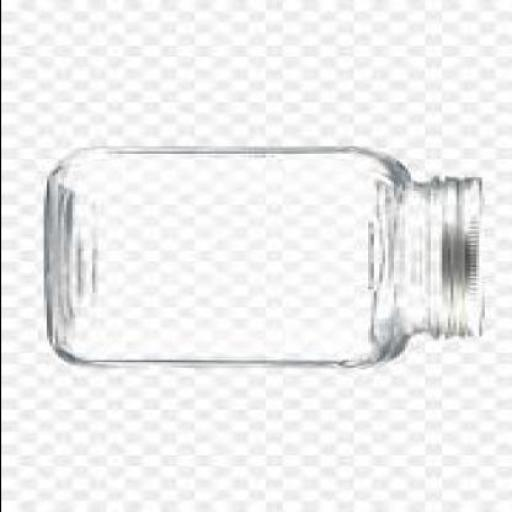glass: (46, 150, 438, 369)
metal: (441, 180, 483, 340)
